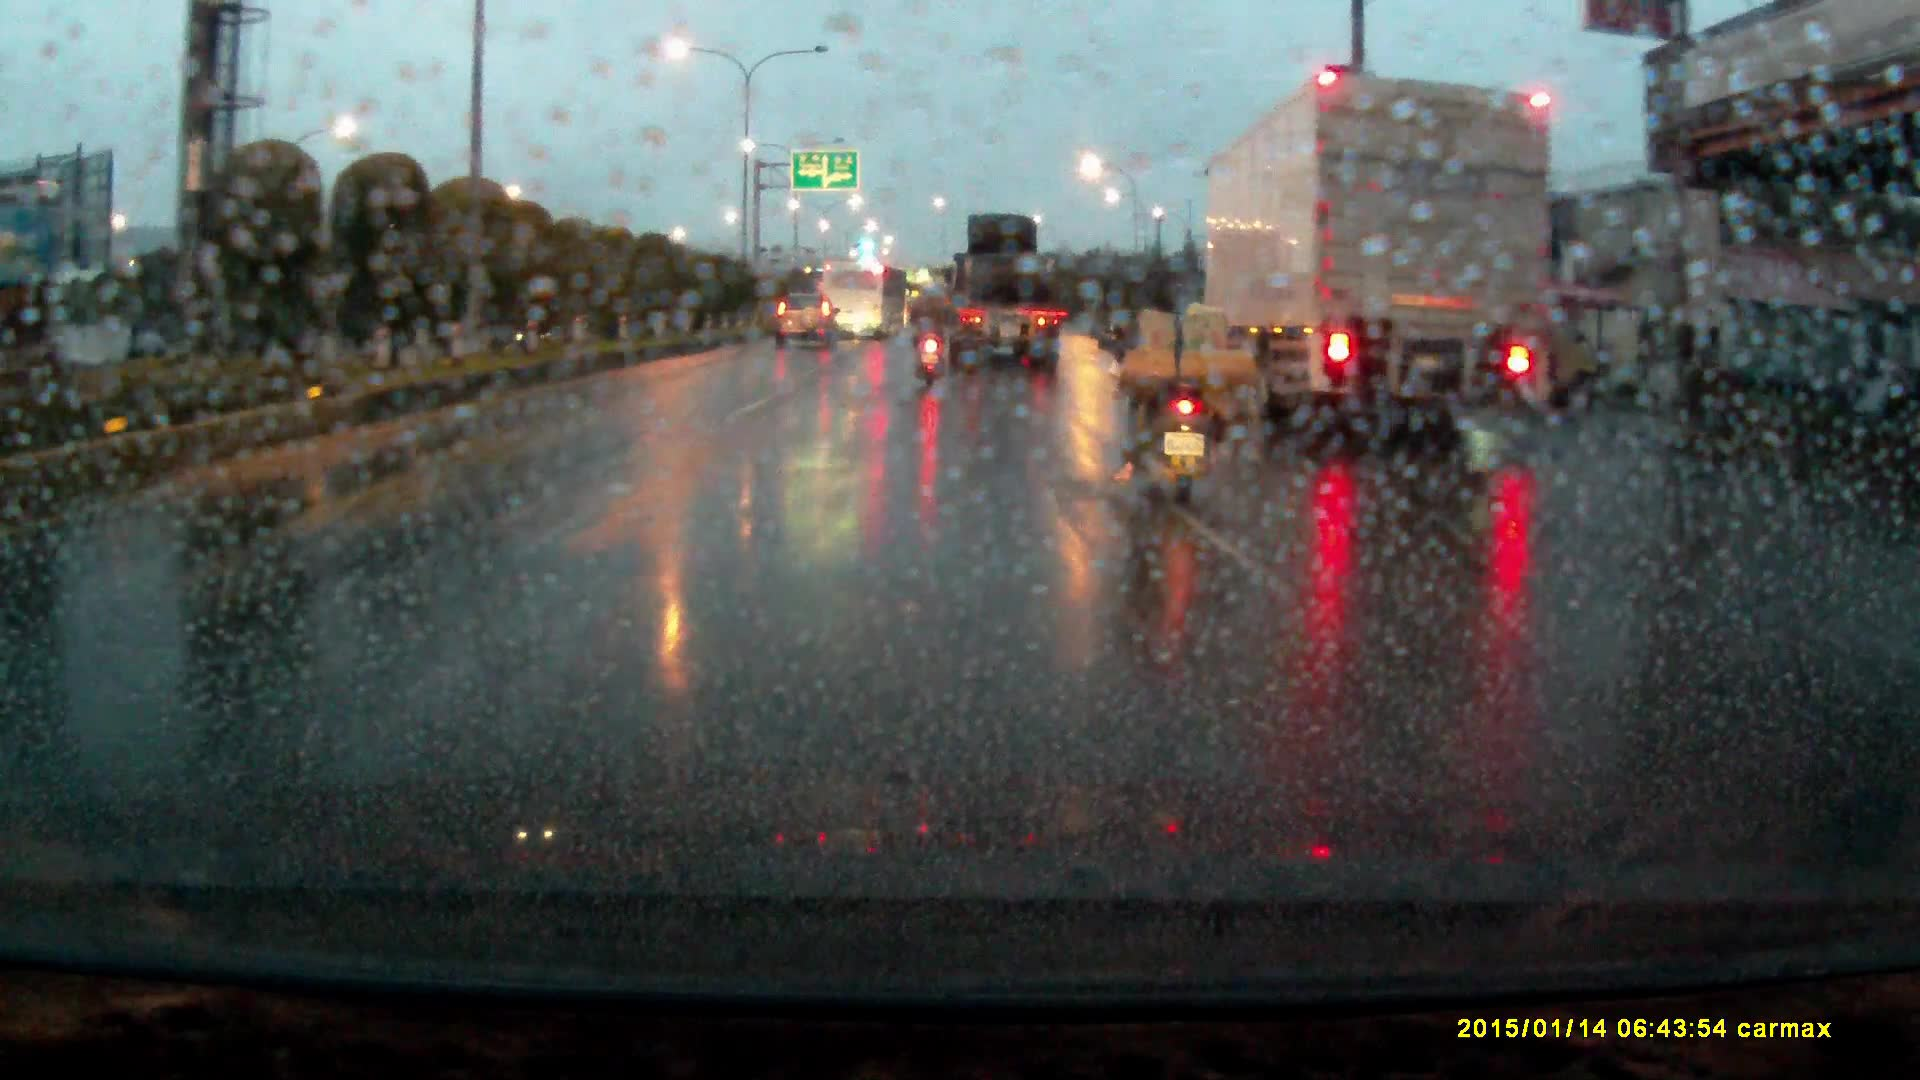rider: (1113, 253, 1251, 526), (912, 287, 953, 388)
vehicle: (1193, 71, 1559, 443), (938, 217, 1062, 374), (822, 261, 888, 339), (774, 295, 842, 355)
